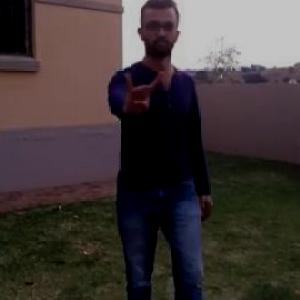takeoff-hand: (116, 61, 168, 116)
